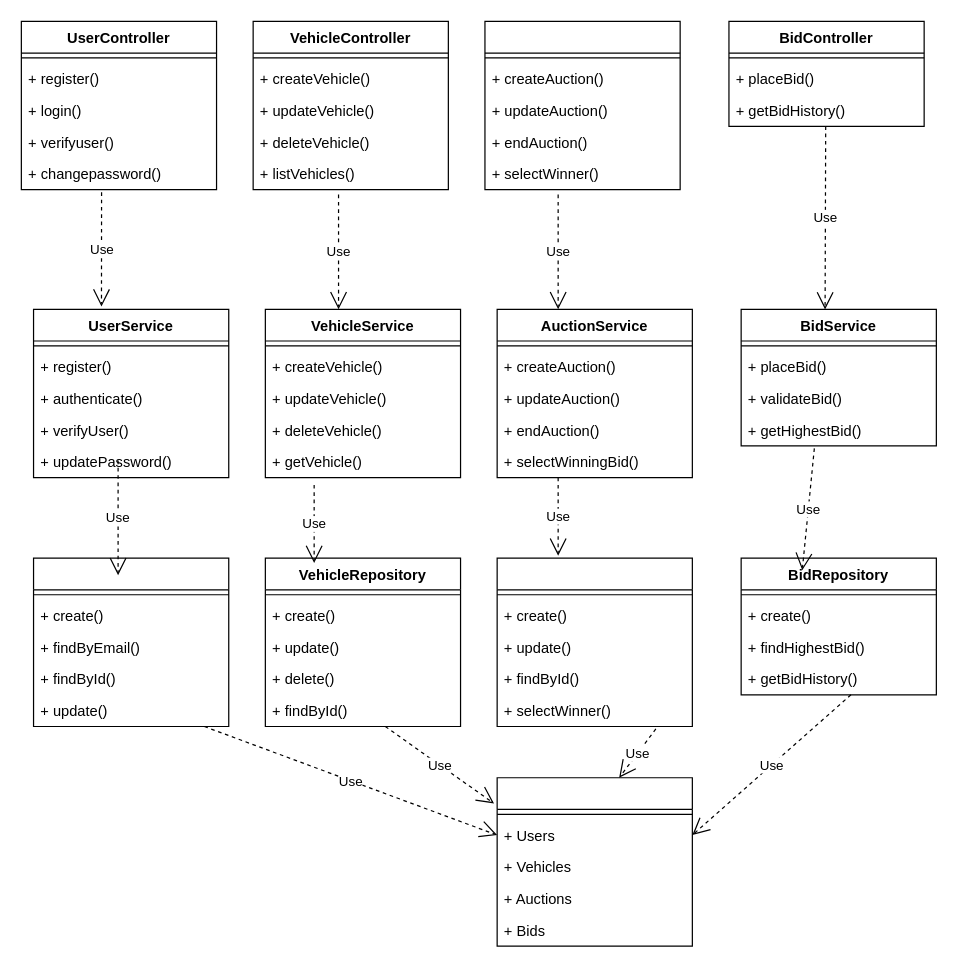
Some shapes in this 958 by 971 pixel diagram are drawn without their labels. Each missing label, with the box of its shape:
AuctionController: (484, 20, 680, 190)
AuctionRepository: (496, 557, 692, 727)
Database: (496, 777, 692, 946)
UserRepository: (32, 557, 229, 727)
